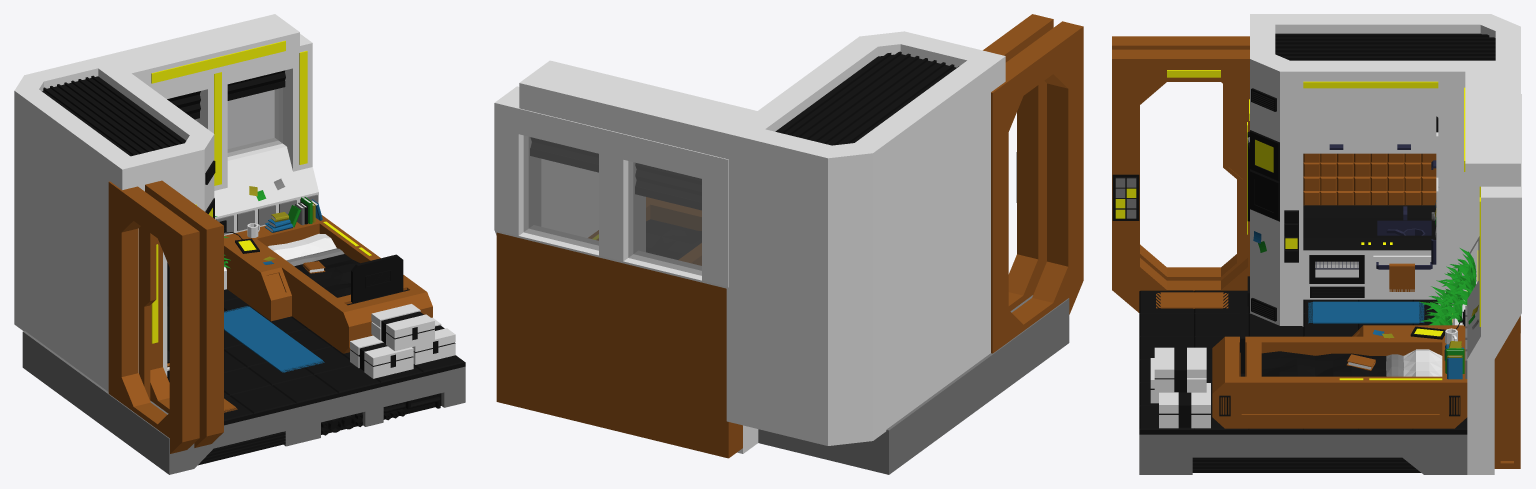
The model's file is _Iso_Room.fbx.
3 views of the same model, side by side, from view 1: azimuth 30°, elevation 25°; view 2: azimuth 150°, elevation 25°; view 3: azimuth 270°, elevation 25° (orthographic). The views are drawn at different scales.
Parts seen in each view (by area): view 1: Mur_BLANC, Porte_ORANGE, Socle_GRIS, Fenetres_BLANC, Lit_ORANGE, Damier_NOIR, Toit_NOIR, Fenetres_VITRE, Tapis_01_BLEU, Sous_socle_NOIR, Battant_Porte_ORANGE, Caisse_03_BLANC (+11 smaller); view 2: Mur_BLANC, Sous_mur_ORANGE, Porte_ORANGE, Fenetres_BLANC, Fenetres_VITRE, Socle_GRIS, Toit_NOIR, Stores_NOIR, Lit_NOIR, Lit_ORANGE; view 3: Mur_BLANC, Lit_ORANGE, Porte_ORANGE, Facade_BLANC, Damier_NOIR, Fenetres_BLANC, Socle_GRIS, Credance_ORANGE, Toit_NOIR, Plan_travail_NOIR, Sous_mur_ORANGE, Sous_socle_NOIR (+22 smaller).
Part boxes in pixels (left/top/right/bottom): Mur_BLANC: left=14, top=14, right=299, bottom=391; Porte_ORANGE: left=108, top=180, right=223, bottom=453; Socle_GRIS: left=22, top=331, right=465, bottom=474; Fenetres_BLANC: left=153, top=34, right=318, bottom=235; Lit_ORANGE: left=224, top=215, right=432, bottom=353; Damier_NOIR: left=224, top=289, right=465, bottom=425; Toit_NOIR: left=42, top=75, right=185, bottom=156; Fenetres_VITRE: left=195, top=87, right=282, bottom=156; Tapis_01_BLEU: left=224, top=306, right=324, bottom=372; Sous_socle_NOIR: left=198, top=393, right=441, bottom=465; Battant_Porte_ORANGE: left=139, top=226, right=156, bottom=400; Caisse_03_BLANC: left=371, top=304, right=434, bottom=350; Mur_BLANC: left=519, top=31, right=1005, bottom=445; Sous_mur_ORANGE: left=496, top=232, right=742, bottom=458; Porte_ORANGE: left=983, top=14, right=1083, bottom=353; Fenetres_BLANC: left=494, top=86, right=758, bottom=453; Fenetres_VITRE: left=523, top=135, right=701, bottom=275; Socle_GRIS: left=758, top=295, right=1069, bottom=474; Toit_NOIR: left=775, top=51, right=959, bottom=145; Stores_NOIR: left=530, top=137, right=701, bottom=209; Lit_NOIR: left=646, top=219, right=701, bottom=259; Lit_ORANGE: left=589, top=197, right=701, bottom=265; Mur_BLANC: left=1250, top=14, right=1520, bottom=332; Lit_ORANGE: left=1212, top=325, right=1467, bottom=428; Porte_ORANGE: left=1112, top=36, right=1249, bottom=312; Facade_BLANC: left=1303, top=94, right=1436, bottom=299; Damier_NOIR: left=1139, top=290, right=1467, bottom=434; Fenetres_BLANC: left=1467, top=94, right=1521, bottom=474; Socle_GRIS: left=1139, top=434, right=1467, bottom=474; Credance_ORANGE: left=1303, top=153, right=1436, bottom=205; Toit_NOIR: left=1275, top=33, right=1495, bottom=60; Plan_travail_NOIR: left=1303, top=205, right=1436, bottom=250; Sous_mur_ORANGE: left=1494, top=316, right=1520, bottom=468; Sous_socle_NOIR: left=1192, top=457, right=1420, bottom=472.
Bounding box in the file's own units: 302 × 260 × 321.
